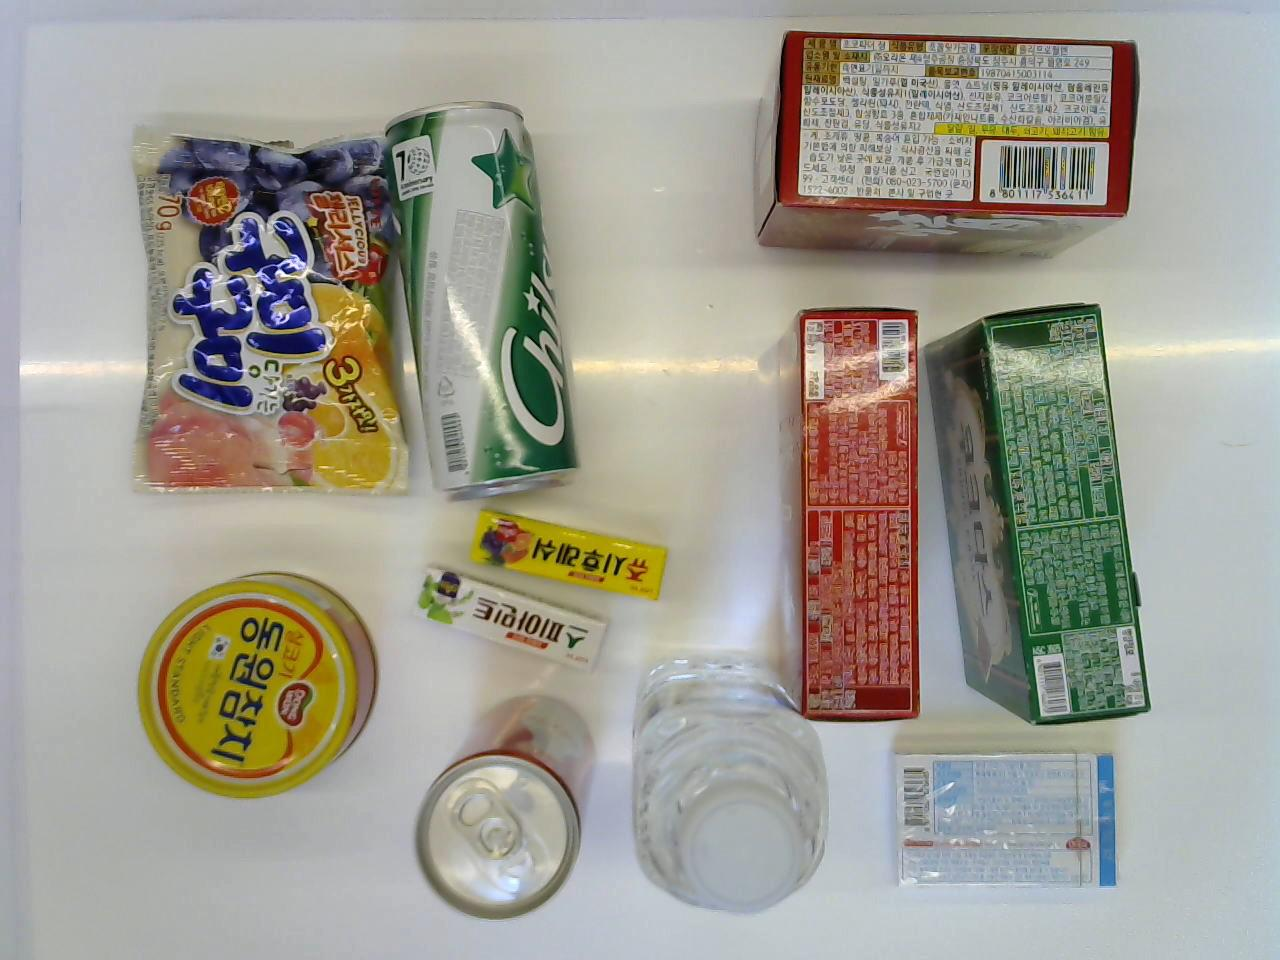ID_gum: (881, 739, 1124, 902)
chocopie: (743, 22, 1143, 264)
cidar: (381, 97, 582, 505)
coke: (405, 687, 605, 924)
couque_coffee: (922, 291, 1156, 728)
couque_white: (773, 301, 927, 730)
gumi_gumi: (118, 119, 421, 504)
juicyfresh: (463, 500, 673, 607)
samdasu: (628, 639, 833, 924)
spearmint: (409, 556, 616, 677)
tuna: (126, 564, 382, 804)
